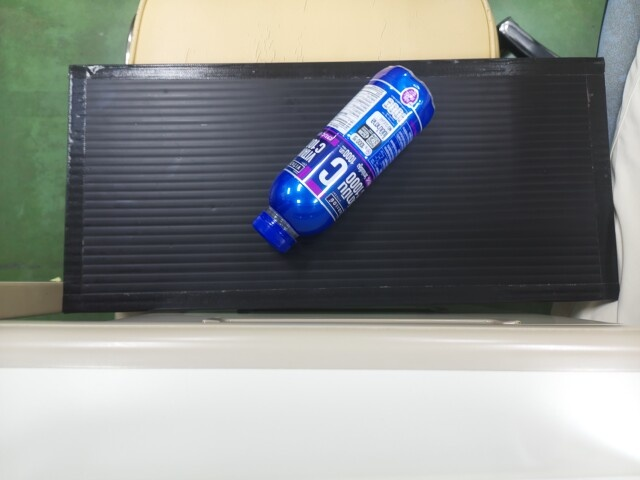plastic_bottle: (261, 65, 440, 249)
